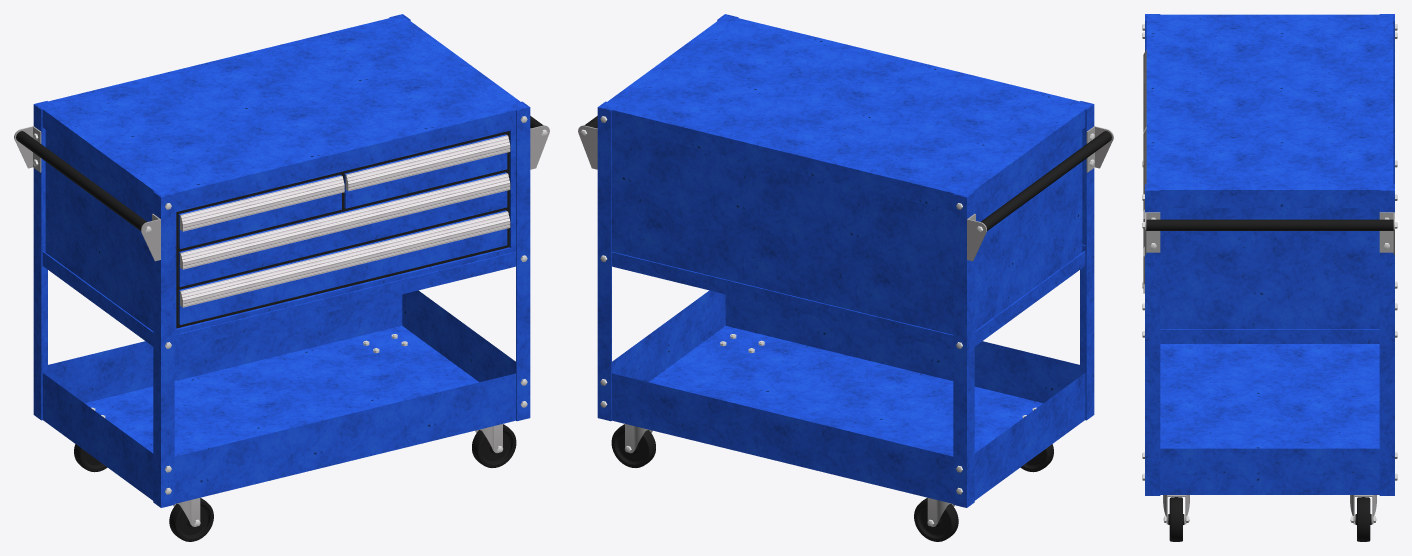
File: tool_cart.glb
3 renders of one model, left to right at view 1: azimuth 30°, elevation 25°; view 2: azimuth 150°, elevation 25°; view 3: azimuth 270°, elevation 25°, orthographic.
Visible parts, largest first — view 1: Material2 (×18); view 2: Material2 (×8); view 3: Material2 (×8), Material3 (×2).
Part boxes in pixels (<box>): Material2 (×18): <box>16,15,530,507</box>; Material2 (×8): <box>597,15,1111,507</box>; Material2 (×8): <box>1145,14,1394,495</box>; Material3 (×2): <box>1145,212,1394,254</box>.
Bounding box in the file's own units: 41.26 × 35.27 × 22.78.
Materials: 9 (2 with a texture image).
